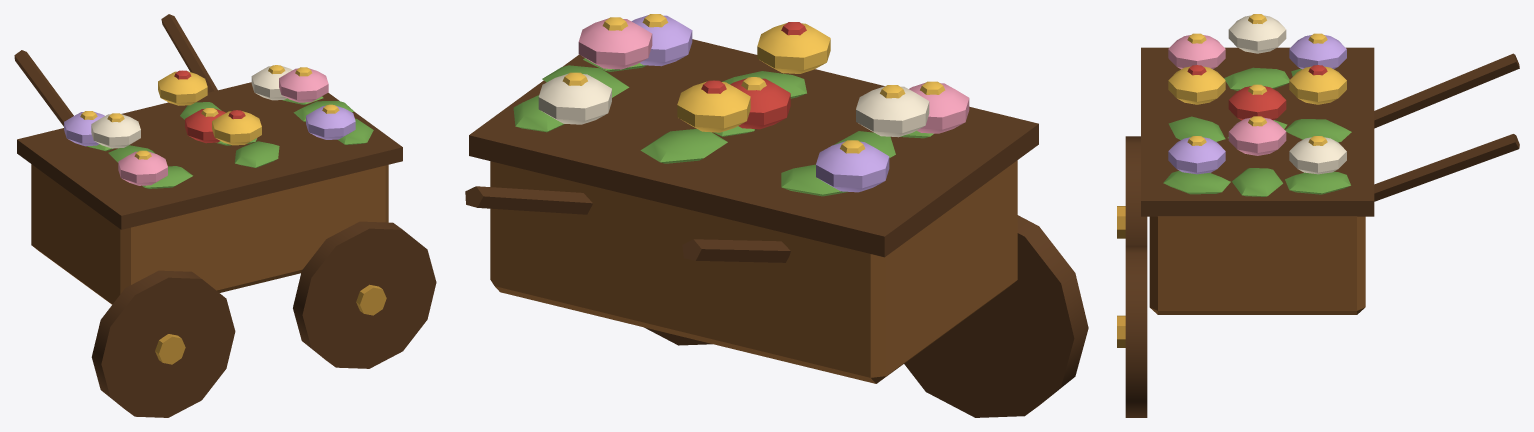
The model's file is PR_Decor_CicekAraba.fbx.
The picture shows the model from 3 angles, left to right: view 1: azimuth 30°, elevation 25°; view 2: azimuth 150°, elevation 25°; view 3: azimuth 270°, elevation 25°; orthographic projection. The views are drawn at different scales.
Parts seen in each view (by area): view 1: PR_Decor_CicekAraba; view 2: PR_Decor_CicekAraba; view 3: PR_Decor_CicekAraba.
Part boxes in pixels (bbox=[...]): PR_Decor_CicekAraba: bbox=[14, 14, 436, 417]; PR_Decor_CicekAraba: bbox=[465, 14, 1088, 417]; PR_Decor_CicekAraba: bbox=[1117, 14, 1519, 417].
Size of the model in its own units: 1 by 0.7411 by 0.932.
